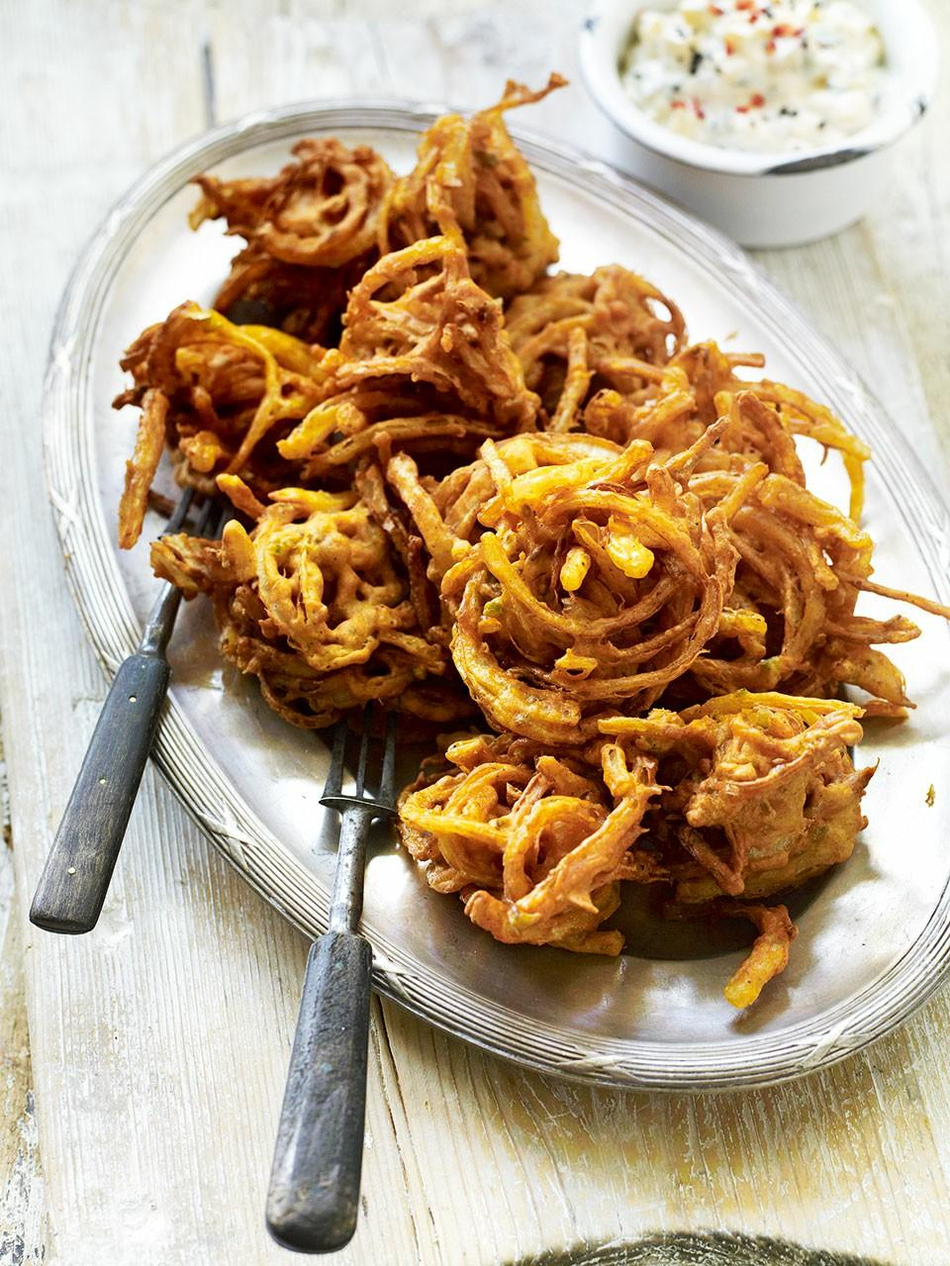OnionPakoda: (103, 88, 908, 984)
